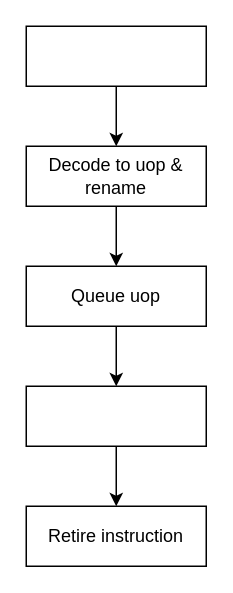
Image size: 233x593. Some labels were removed from this diagram. The centre of each missing label's shape, as x and y in pixels:
Execute uop: (115,415)
Fetch bytes: (115,55)
